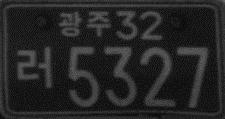2: (140, 46, 176, 109), (139, 9, 164, 41)
3: (102, 45, 136, 107), (113, 8, 137, 41)
5: (67, 44, 100, 109)
7: (174, 45, 210, 110)
광주_O: (57, 9, 111, 38)
러: (14, 44, 53, 90)
